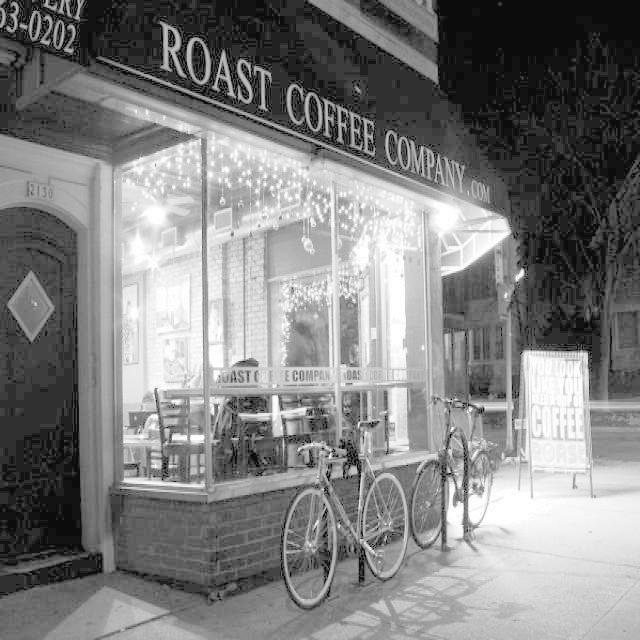Bicycle: (395, 372, 517, 549), (287, 440, 400, 613)
